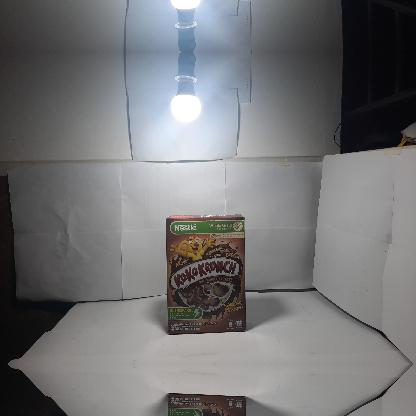Koko-Krunch: (166, 214, 247, 334)
